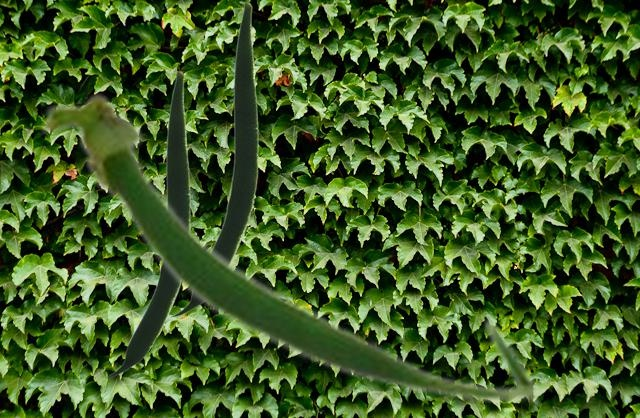french_bean: (37, 88, 540, 405), (170, 1, 257, 316), (104, 70, 189, 377)
